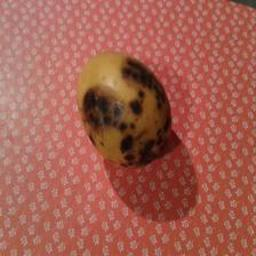Mango Rotten: (62, 51, 180, 163)
